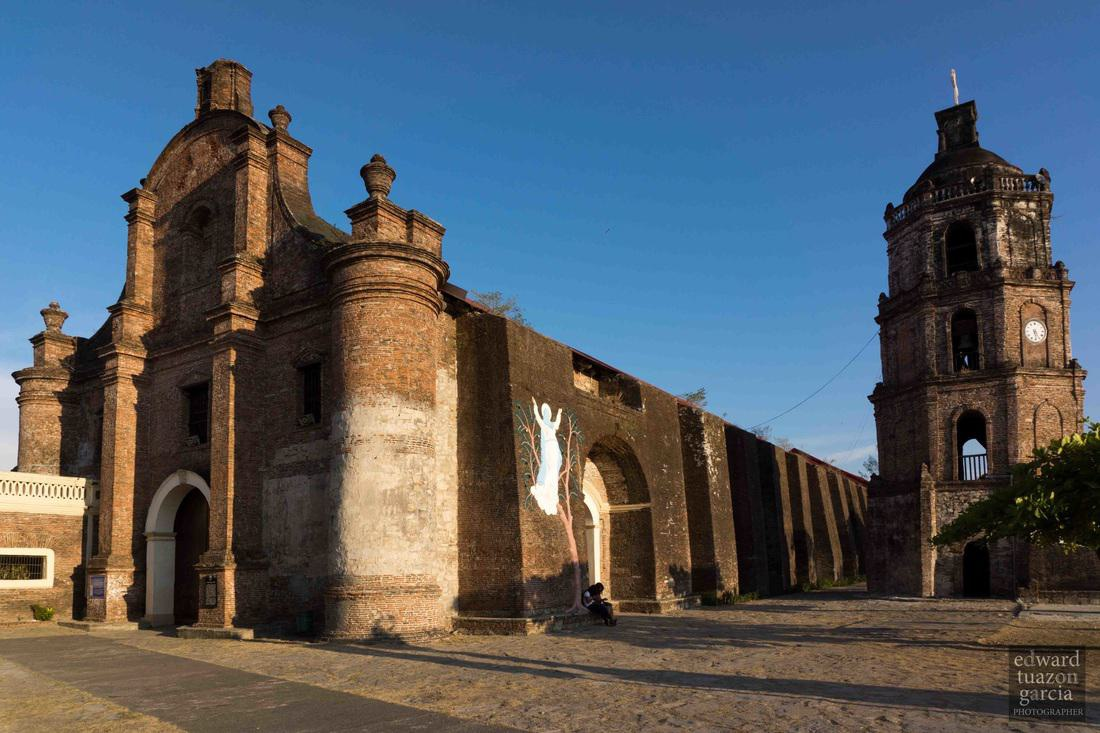santa_maria_church_santa_maria_ilocos_sur: (10, 48, 461, 657)
unfinished_paint: (262, 391, 458, 589)
